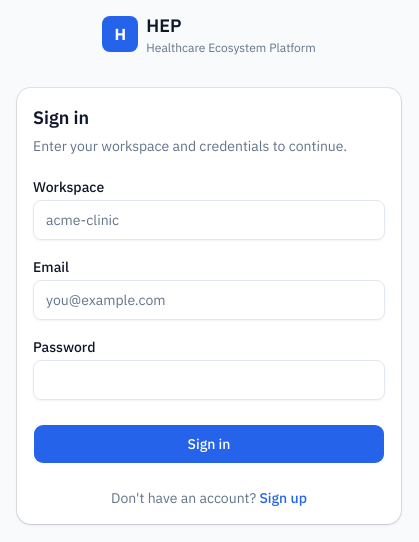
Scenario: LoginPage › as an unauthenticated caller › shows the MFA step when the login mutation returns an mfa_required challenge (AC2)
Type "acme" into the field labelled "Workspace" at x=209, y=220, box [33, 200, 385, 240]
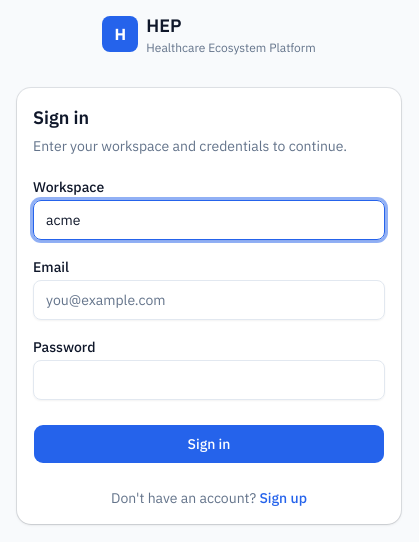
Type "admin@acme.example.com" into the field labelled "Email" at x=209, y=300, box [33, 280, 385, 320]
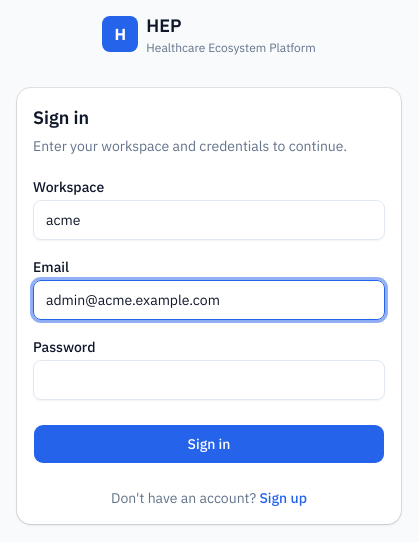
Type "s3cret!!" into the password field labelled "Password" at x=209, y=380, box [33, 360, 385, 400]
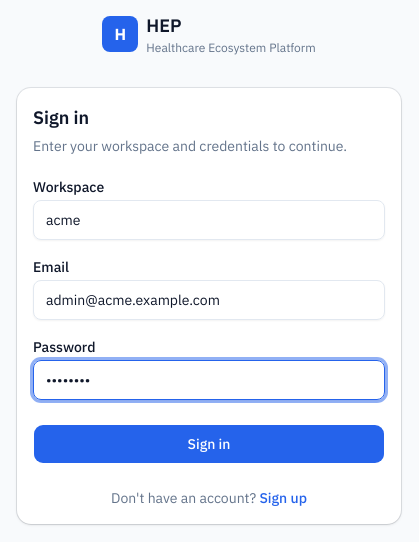
Click the button "Sign in" at x=209, y=444, box [33, 424, 385, 464]
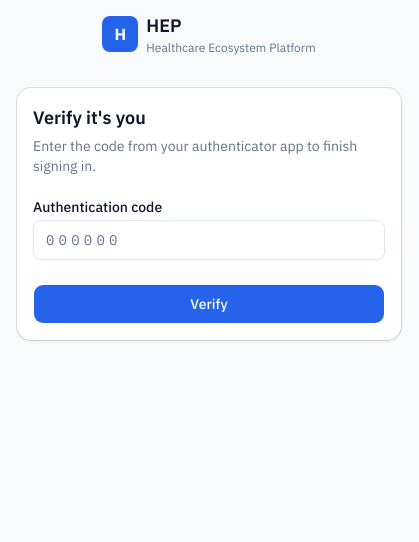
expect the field labelled "Authentication code" is shown: met, box [33, 220, 385, 260]
expect the text labelled "workspace" is gone: met
